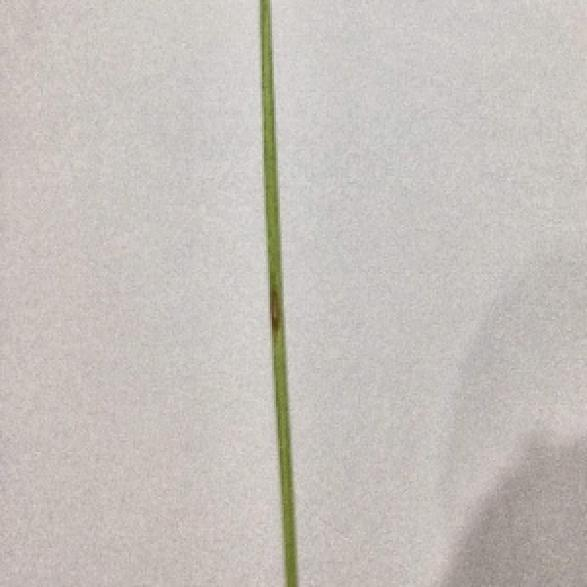Leaf_smut: (262, 125, 288, 352)
